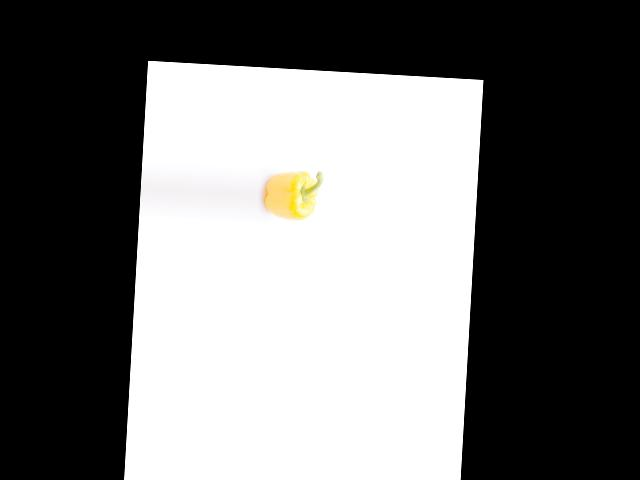bell_pepper: (262, 166, 321, 226)
